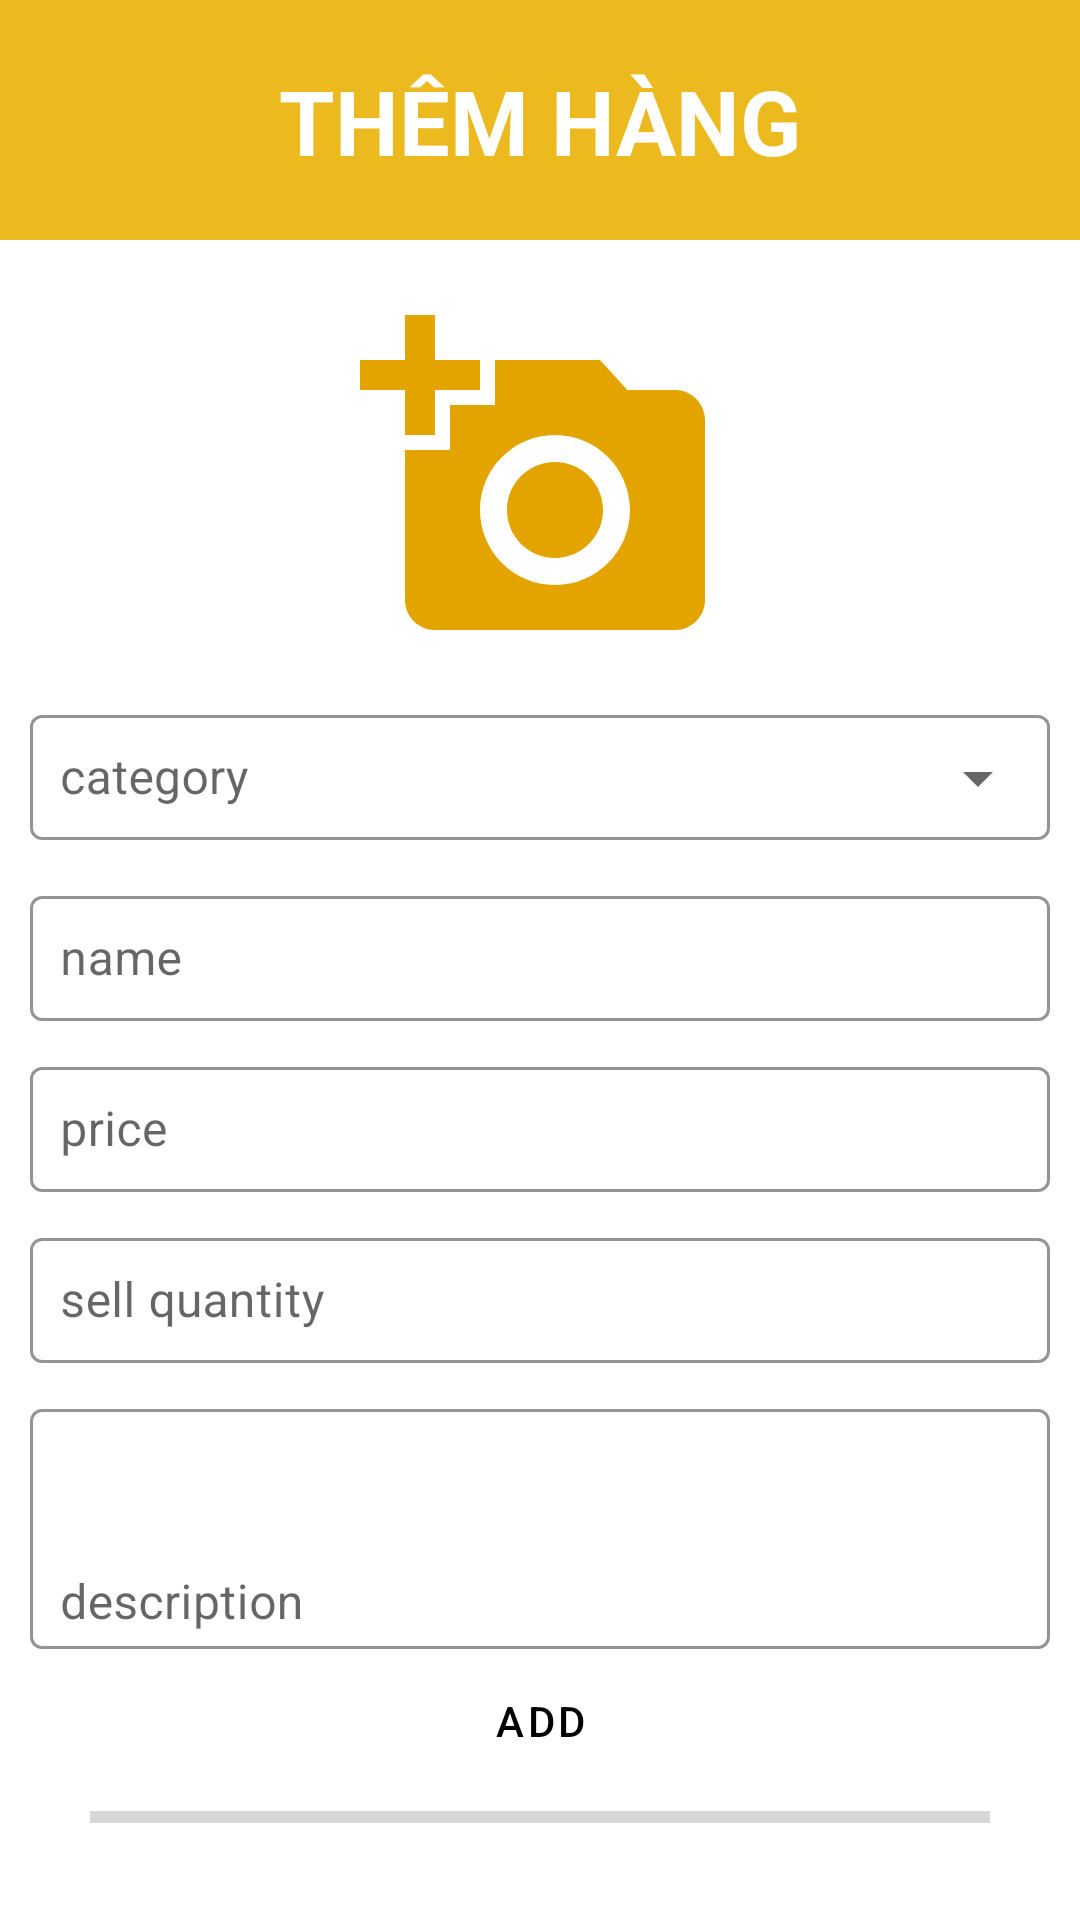

Screen size 1080 x 1920. Icon name, then its center in pixels as (x,y):
add photo: (532,472)
